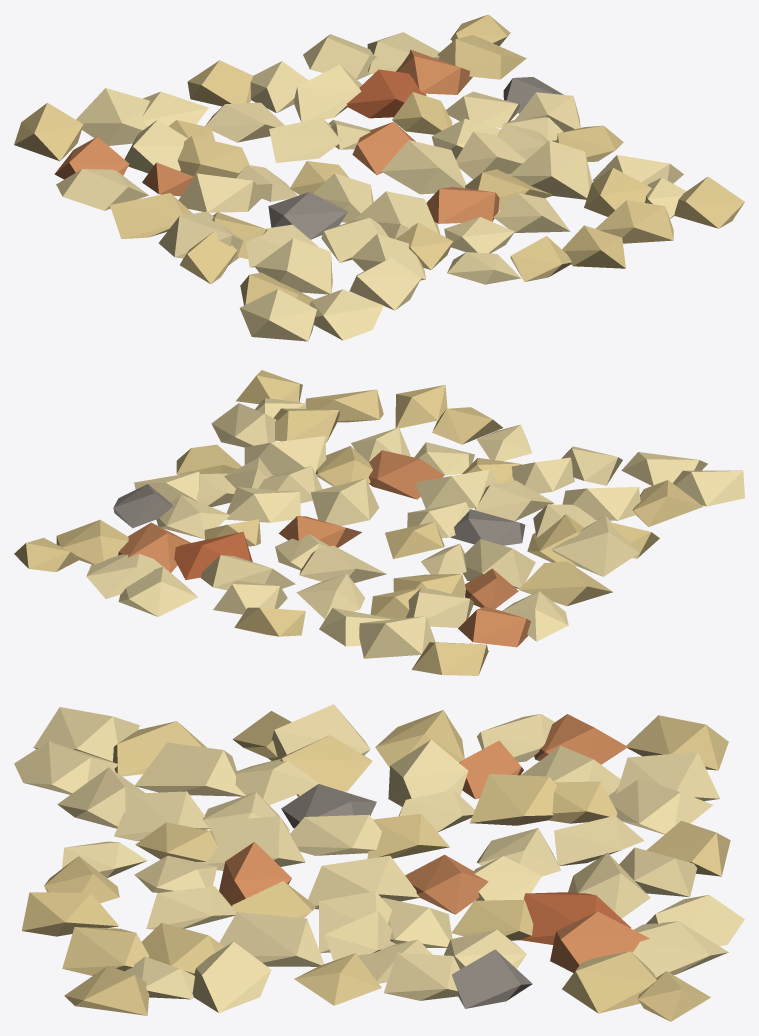
The model's file is minerai_sable_2.glb.
3 views of the same model, one above another, from view 1: azimuth 30°, elevation 25°; view 2: azimuth 150°, elevation 25°; view 3: azimuth 270°, elevation 25° (orthographic). The views are drawn at different scales.
Visible parts, largest first — view 1: sable_sable_clair.004, sable_sable.004, sable_gres_clair.004, sable_pierre_claire.004, sable_gres.004; view 2: sable_sable_clair.004, sable_sable.004, sable_gres_clair.004, sable_pierre_claire.004, sable_gres.004; view 3: sable_sable_clair.004, sable_sable.004, sable_gres_clair.004, sable_pierre_claire.004, sable_gres.004.
Boxes of the visible parts, <box> form: sable_sable_clair.004: <box>56,32,686,341</box>; sable_sable.004: <box>14,14,744,305</box>; sable_gres_clair.004: <box>54,49,499,223</box>; sable_pierre_claire.004: <box>268,77,563,239</box>; sable_gres.004: <box>346,69,426,118</box>; sable_sable_clair.004: <box>86,398,744,658</box>; sable_sable.004: <box>14,370,703,675</box>; sable_gres_clair.004: <box>118,450,530,647</box>; sable_pierre_claire.004: <box>113,484,525,545</box>; sable_gres.004: <box>174,531,252,579</box>; sable_sable_clair.004: <box>14,704,744,1012</box>; sable_sable.004: <box>21,710,730,1021</box>; sable_gres_clair.004: <box>219,714,649,972</box>; sable_pierre_claire.004: <box>281,784,532,1008</box>; sable_gres.004: <box>520,892,630,944</box>.
Bounding box in the file's own units: 0.4955 × 0.0321 × 0.5129.
